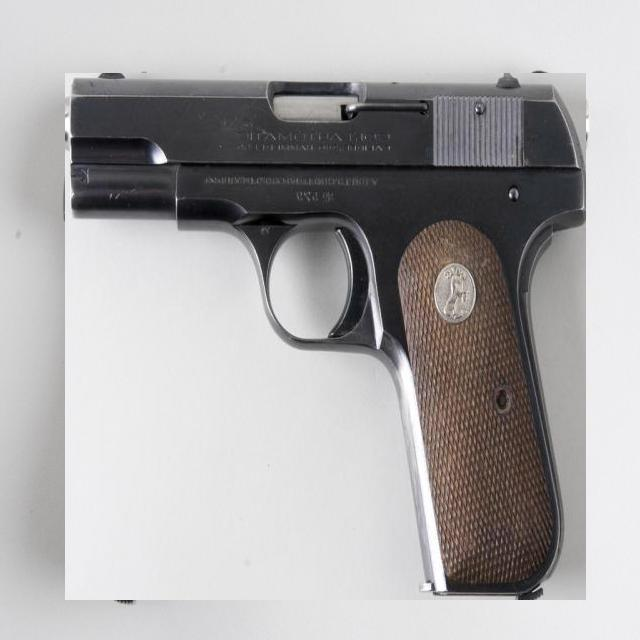Gun: (65, 73, 586, 600)
